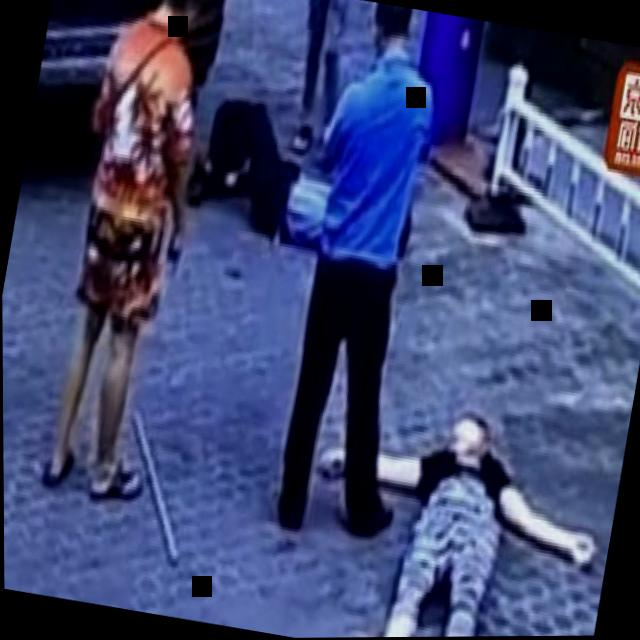Fall-Detected: (177, 76, 371, 261)
